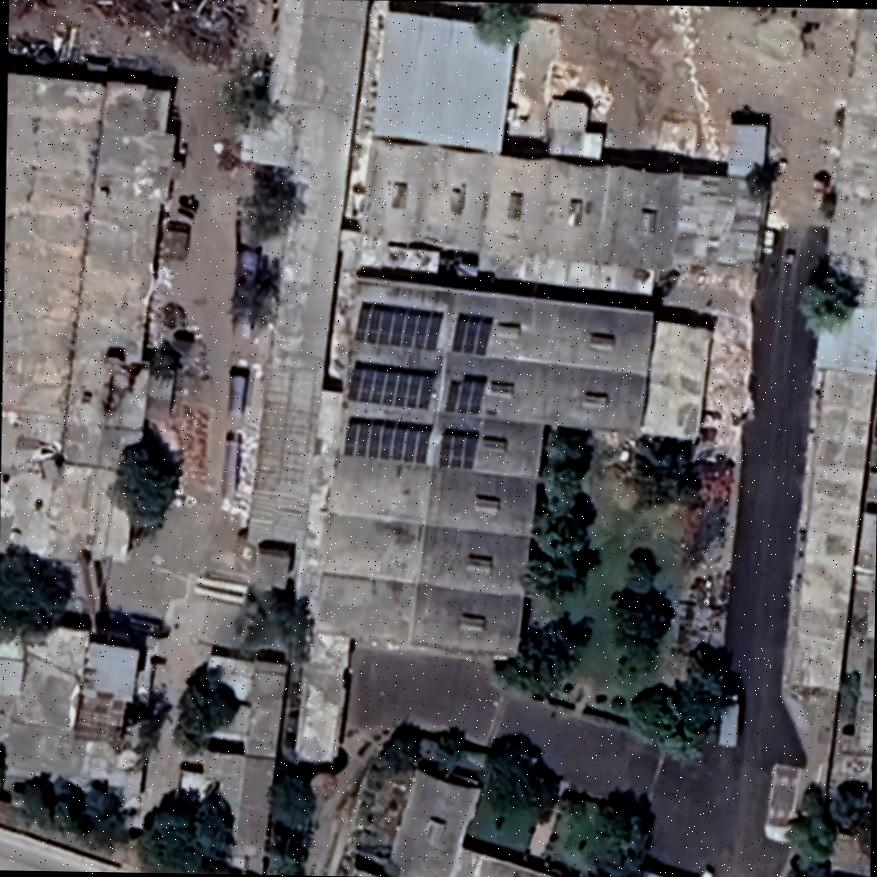Solarpanel: (339, 356, 443, 415), (343, 299, 450, 354), (333, 415, 438, 471), (430, 412, 482, 476), (447, 305, 502, 363), (439, 363, 487, 417)
